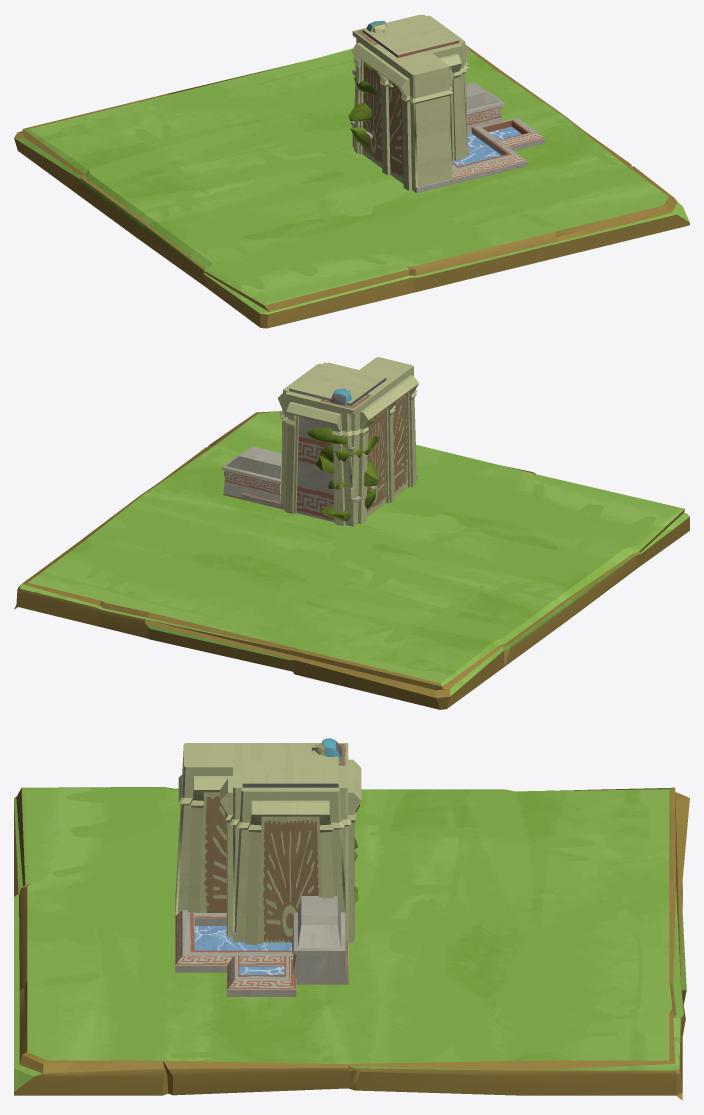
Rendered from blocks_02.fbx.
3 views of the same model, one above another, from view 1: azimuth 30°, elevation 25°; view 2: azimuth 150°, elevation 25°; view 3: azimuth 270°, elevation 25° (orthographic). The views are drawn at different scales.
Parts seen in each view (by area): view 1: ground, wall_04, wall_03, pool_03, pool_01, wall_02, wall_01; view 2: ground, wall_03, wall_04, wall_02, tree_05, wall_01; view 3: ground, wall_03, wall_04, wall_02, pool_03, pool_01, pool_02.
Part boxes in pixels (box(x1,y1,x2,y2)): ground: box(14, 44, 689, 328); wall_04: box(351, 35, 454, 191); wall_03: box(353, 14, 470, 175); pool_03: box(452, 117, 544, 180); pool_01: box(352, 125, 519, 193); wall_02: box(350, 82, 504, 143); wall_01: box(357, 42, 427, 174); ground: box(14, 411, 689, 709); wall_03: box(277, 362, 395, 525); wall_04: box(354, 357, 418, 523); wall_02: box(221, 446, 376, 502); tree_05: box(316, 456, 378, 489); wall_01: box(351, 380, 391, 503); ground: box(14, 787, 689, 1100); wall_03: box(220, 743, 361, 944); wall_04: box(175, 743, 289, 914); wall_02: box(292, 896, 348, 984); pool_03: box(175, 913, 296, 996); pool_01: box(175, 892, 348, 972); pool_02: box(176, 912, 292, 972).
Size of the model in its own units: 11.68 by 4.41 by 11.71.
Materials: 14 (12 with a texture image).
